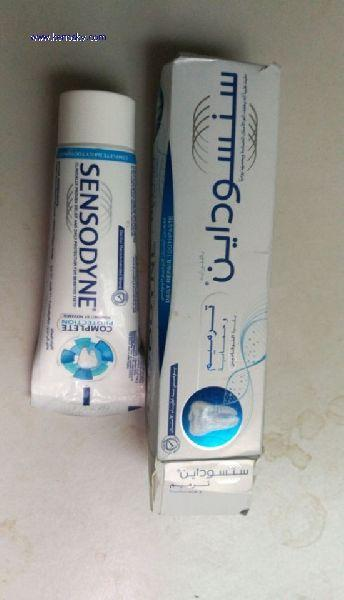toothpaste: (44, 62, 156, 429)
